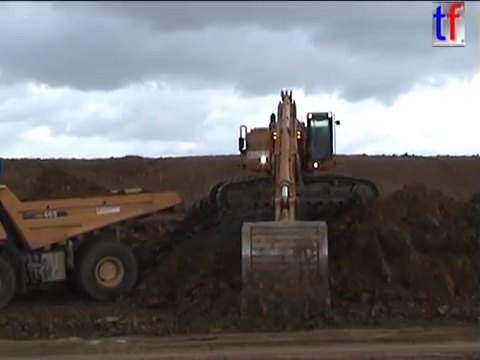excavator: (205, 86, 380, 329)
truck: (1, 181, 184, 311)
